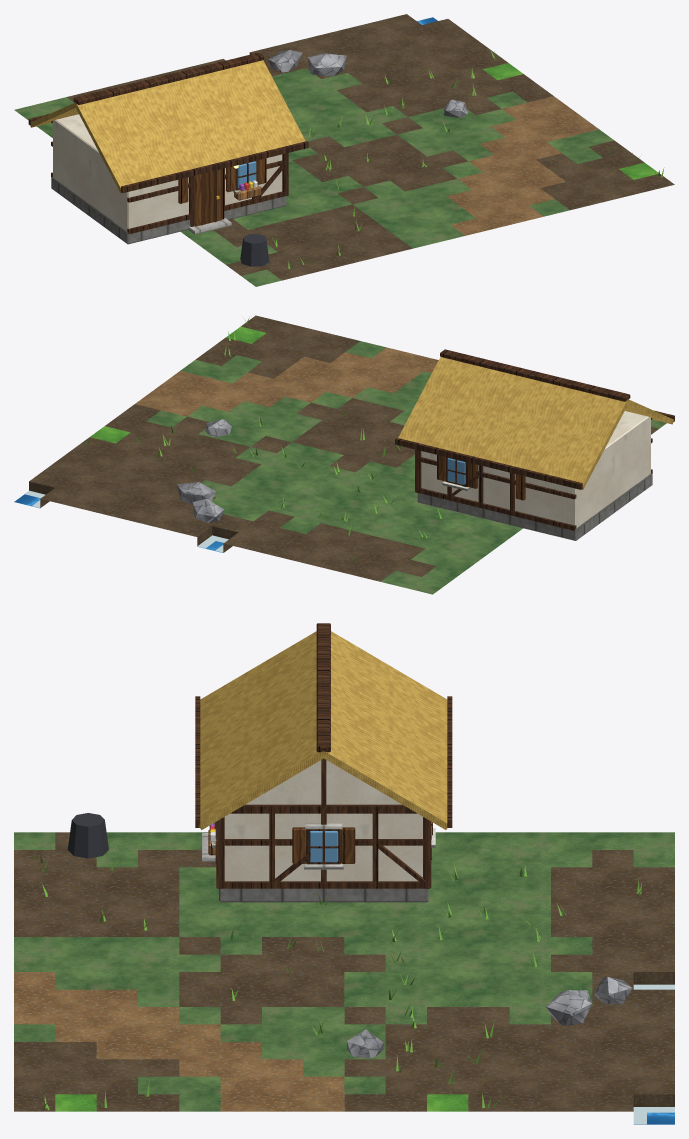
Rendered from chunk_2_16.glb.
3 renders of one model, top to bottom at view 1: azimuth 30°, elevation 25°; view 2: azimuth 150°, elevation 25°; view 3: azimuth 270°, elevation 25°, orthographic. The views are drawn at different scales.
Parts seen in each view (by area): view 1: chunk_2_16; view 2: chunk_2_16; view 3: chunk_2_16.
Boxes of the visible parts, left/top/right/bottom form: chunk_2_16: left=14, top=14, right=674, bottom=286; chunk_2_16: left=14, top=315, right=674, bottom=594; chunk_2_16: left=14, top=623, right=674, bottom=1124.
Bounding box in the file's own units: 18.62 × 4.88 × 16.
Materials: 23 (13 with a texture image).
